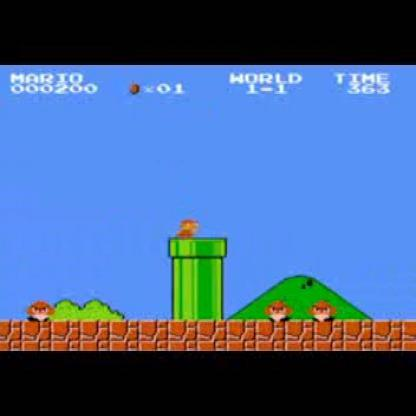Goomba: (28, 296, 57, 322), (263, 299, 292, 320), (310, 299, 335, 321)
